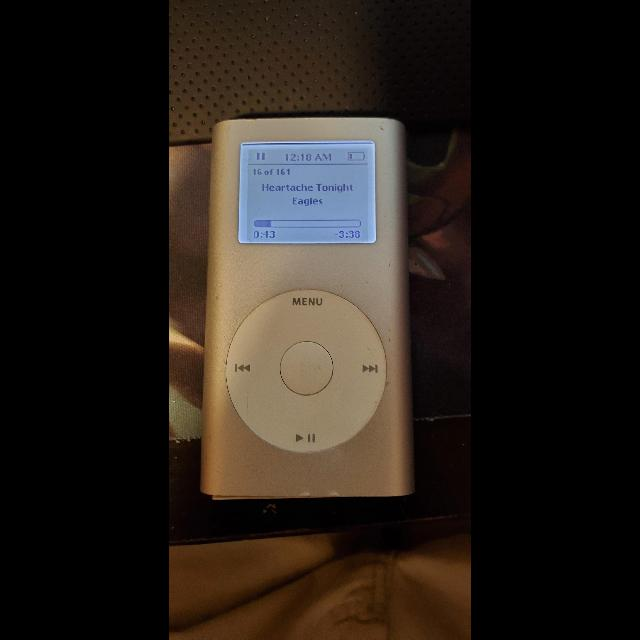Music-Player: (191, 104, 427, 506)
